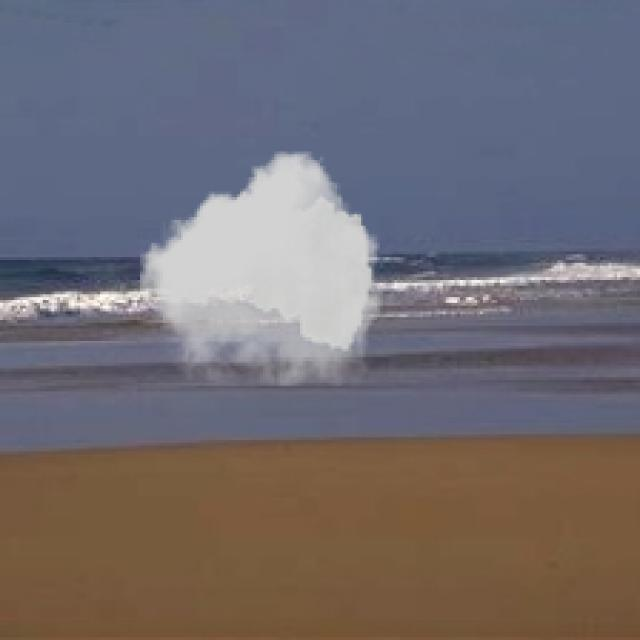smoke: (140, 151, 383, 386)
